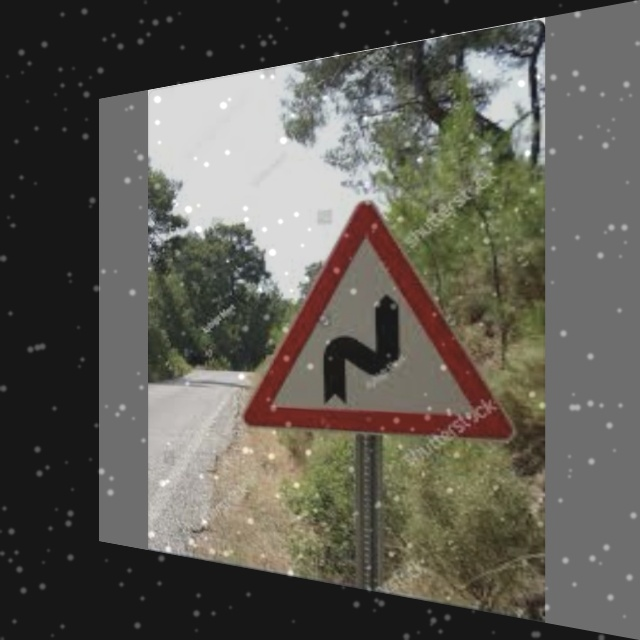Right_Reverse_Bend: (264, 209, 502, 438)
